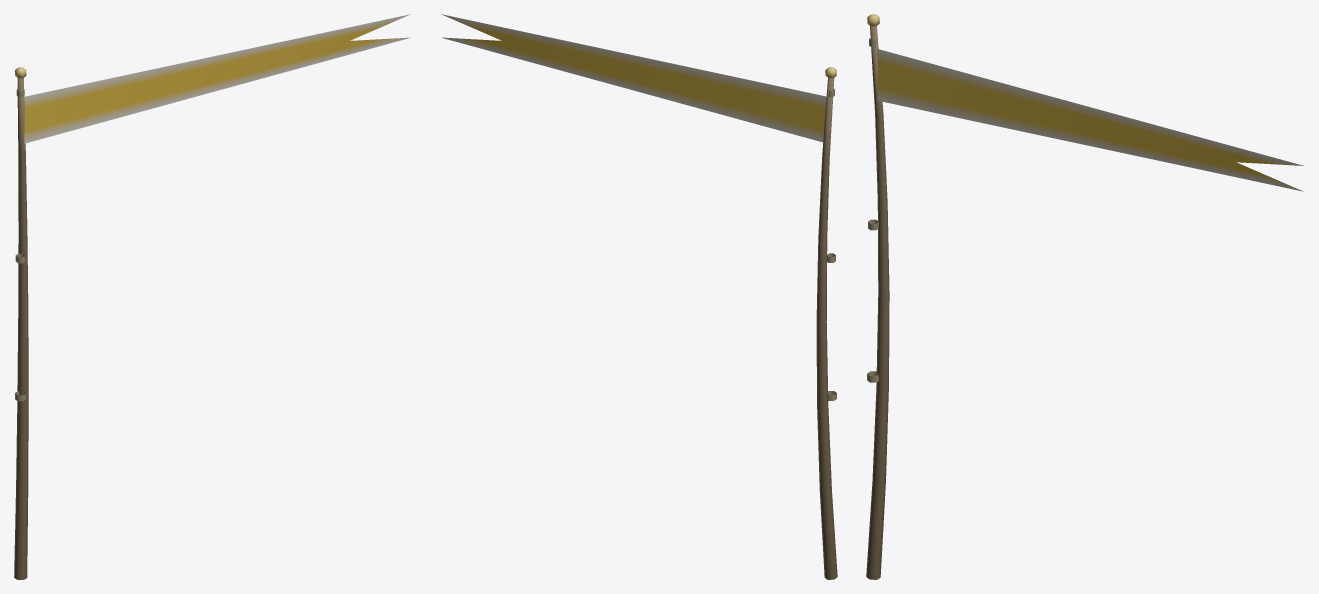
File: pennant_gold.glb
3 views of the same model, side by side, from view 1: azimuth 30°, elevation 25°; view 2: azimuth 150°, elevation 25°; view 3: azimuth 330°, elevation 25° (orthographic). The views are drawn at different scales.
Parts seen in each view (by area): view 1: pennant_gold; view 2: pennant_gold; view 3: pennant_gold.
Boxes of the visible parts, x1=… form: pennant_gold: x1=14, y1=14, x2=410, y2=579; pennant_gold: x1=441, y1=14, x2=837, y2=579; pennant_gold: x1=866, y1=14, x2=1303, y2=579.
Size of the model in its own units: 8.37 by 10.33 by 0.3393.
